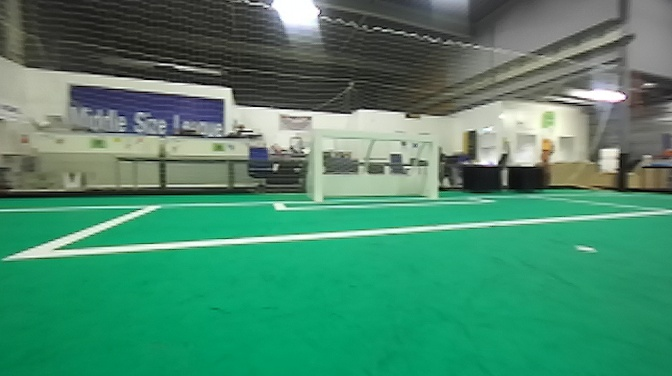goalpost: (308, 127, 326, 204), (423, 133, 441, 200)
